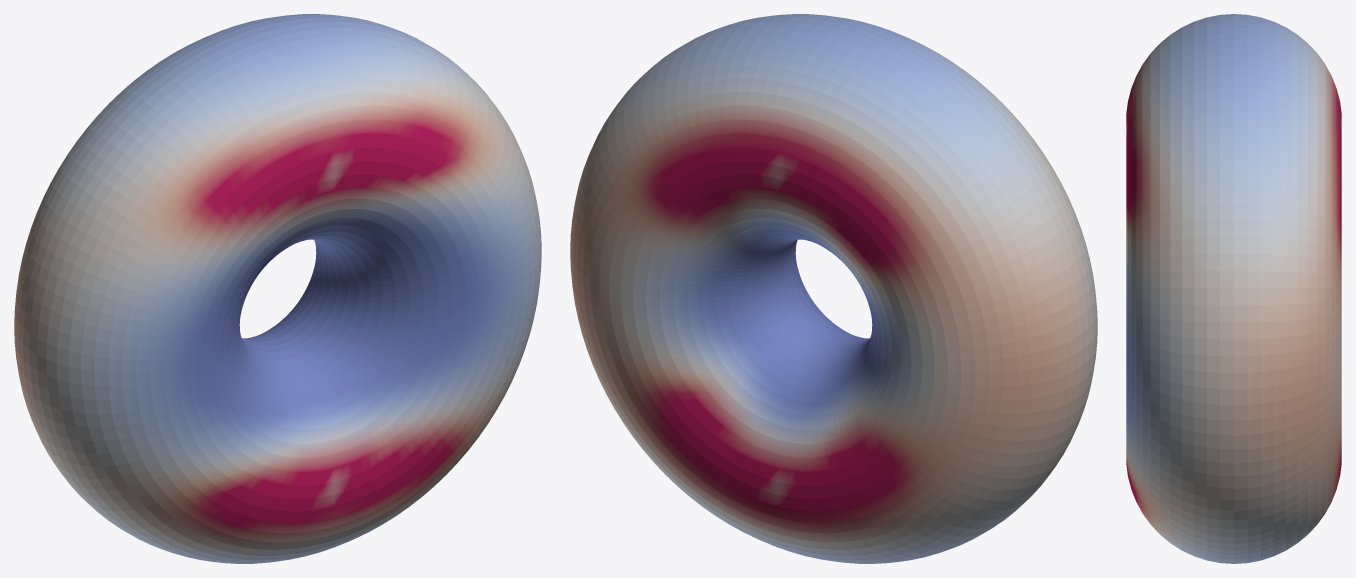
The picture shows the model from 3 angles, left to right: view 1: azimuth 30°, elevation 25°; view 2: azimuth 150°, elevation 25°; view 3: azimuth 270°, elevation 25°; orthographic projection. The views are drawn at different scales.
Visible parts, largest first — view 1: world; view 2: world; view 3: world.
Part boxes in pixels (x1,y1,x2,y2): world: (14,14,541,563); world: (570,14,1097,563); world: (1126,14,1341,563).
Bounding box in the file's own units: 18.67 × 18.67 × 7.32.
